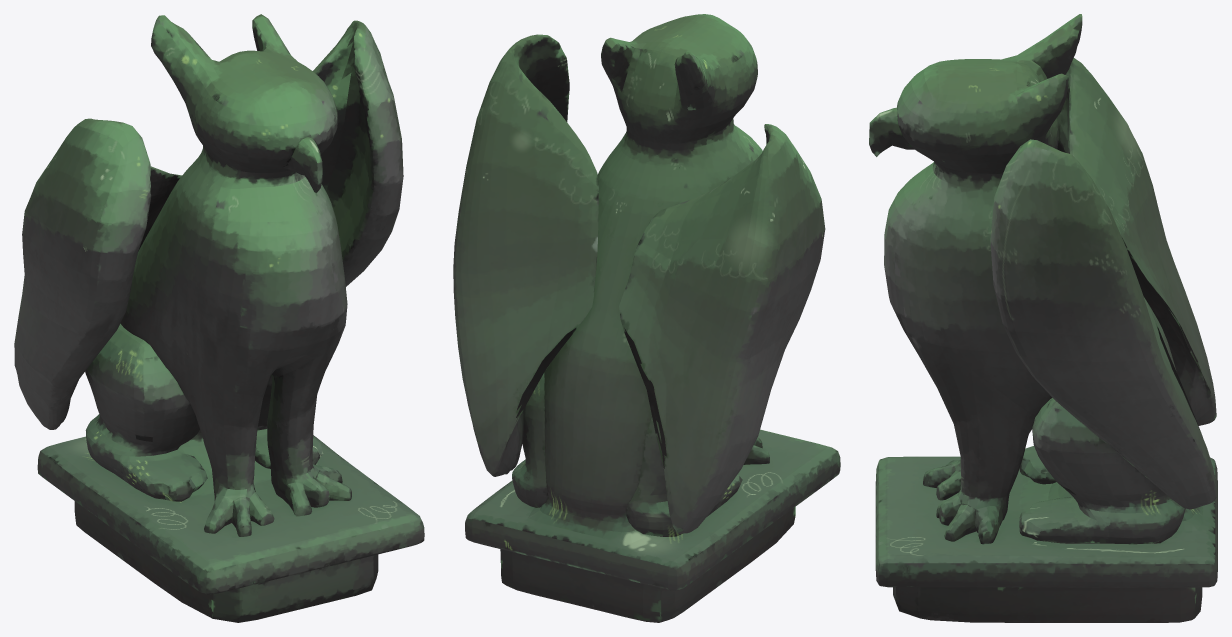
The model's file is modelosolito.glb.
3 views of the same model, side by side, from view 1: azimuth 30°, elevation 25°; view 2: azimuth 150°, elevation 25°; view 3: azimuth 270°, elevation 25° (orthographic). The views are drawn at different scales.
Visible parts, largest first — view 1: cuerpo; view 2: cuerpo; view 3: cuerpo.
Boxes of the visible parts, bbox=[...] form: cuerpo: bbox=[14, 14, 424, 622]; cuerpo: bbox=[453, 14, 840, 622]; cuerpo: bbox=[869, 14, 1217, 622].
Size of the model in its own units: 4.55 by 7.22 by 4.2.
Materials: 1 (1 with a texture image).
